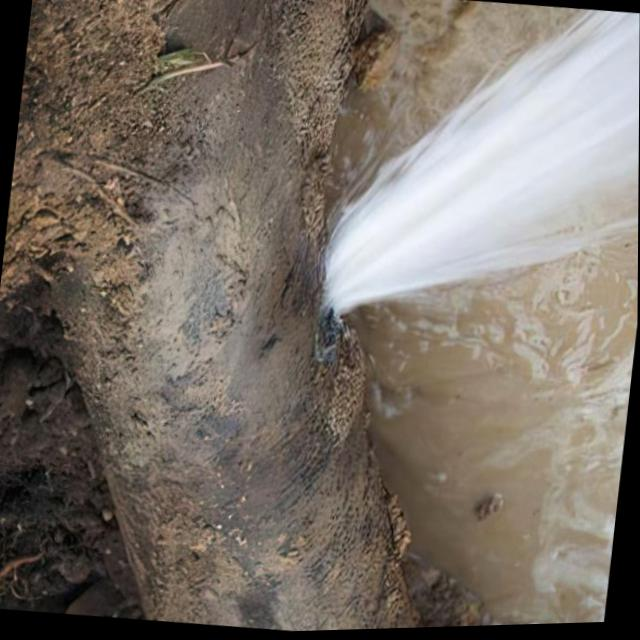leak: (319, 5, 640, 332)
